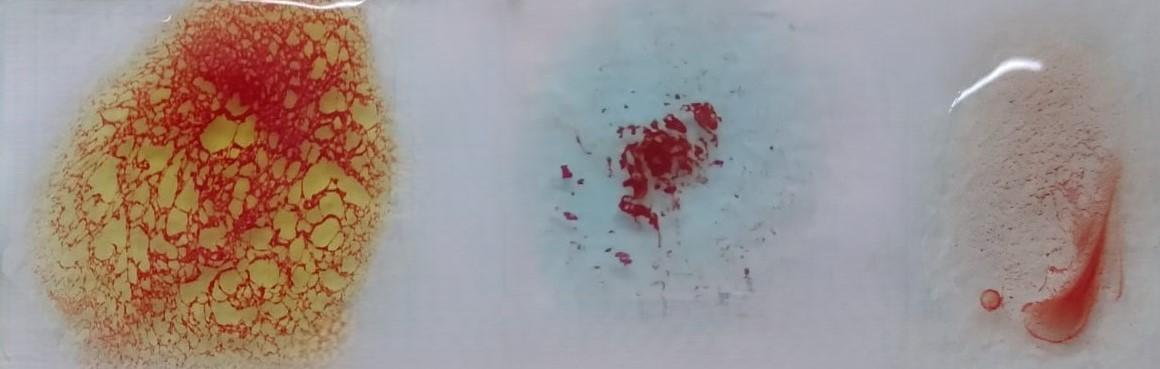A: (542, 31, 780, 302)
B: (51, 0, 371, 360)
D: (919, 44, 1130, 369)
